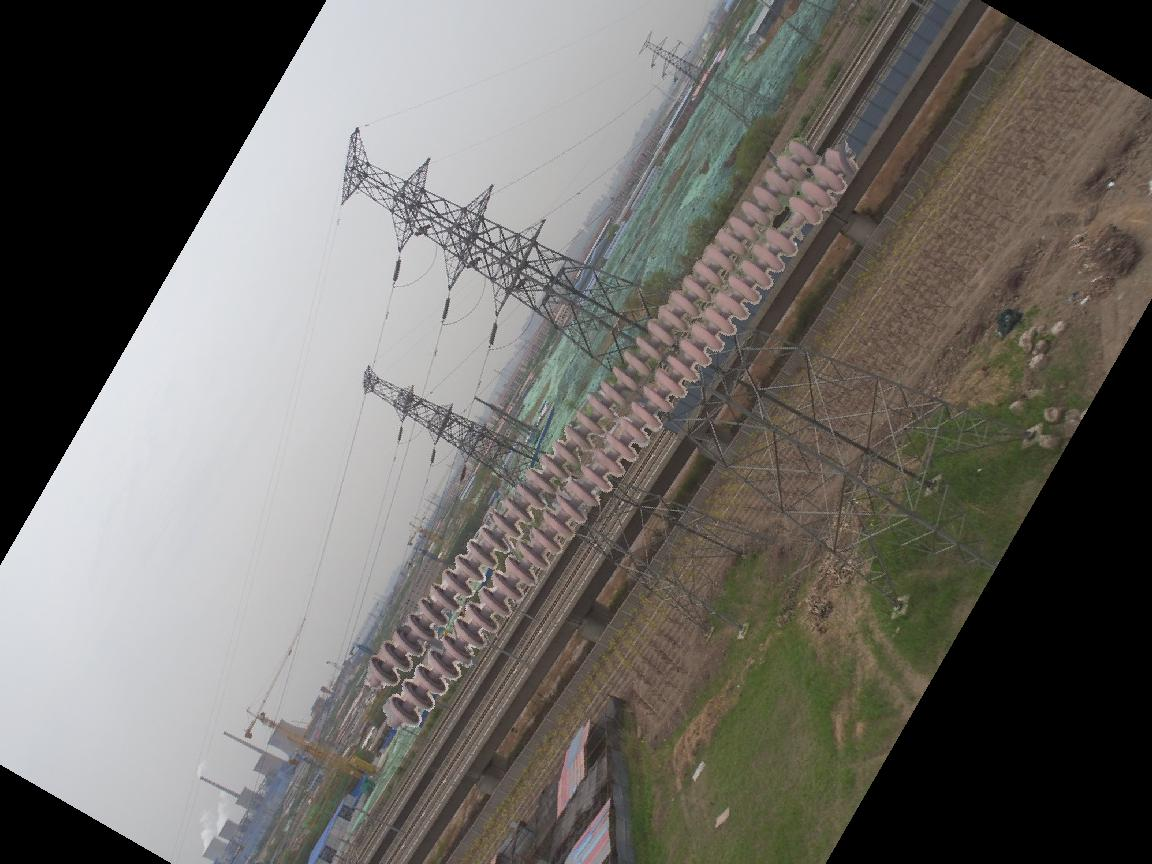insulator: (362, 131, 870, 736)
insulator_stringdrop: (762, 191, 827, 257)
